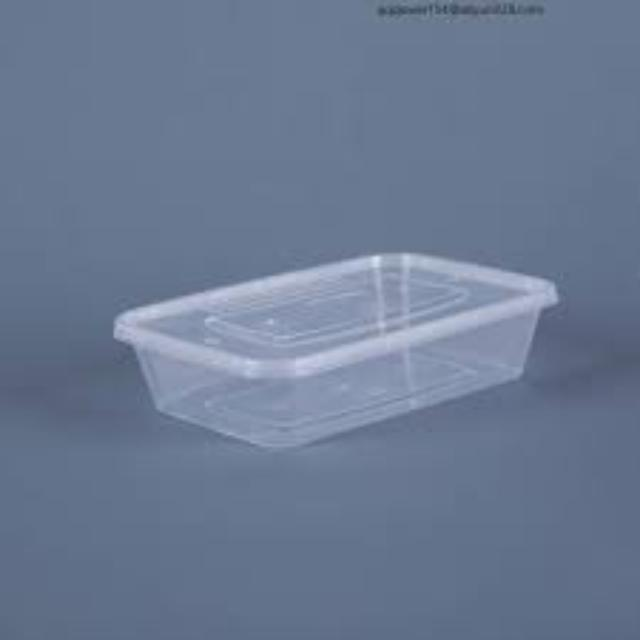Recipiente plastico: (113, 253, 560, 455)
